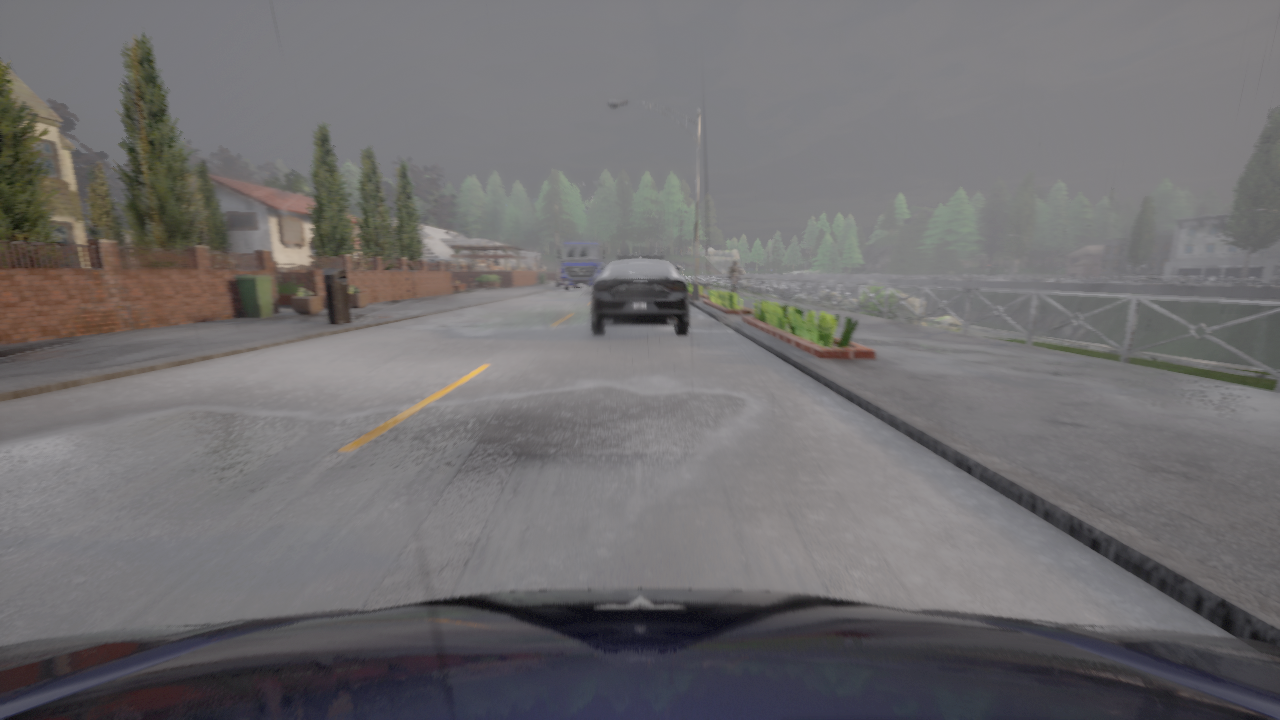cyclist: (0, 588, 1279, 719), (591, 254, 688, 334), (557, 241, 605, 290)
pedestrian: (728, 260, 739, 292), (735, 261, 742, 292)
